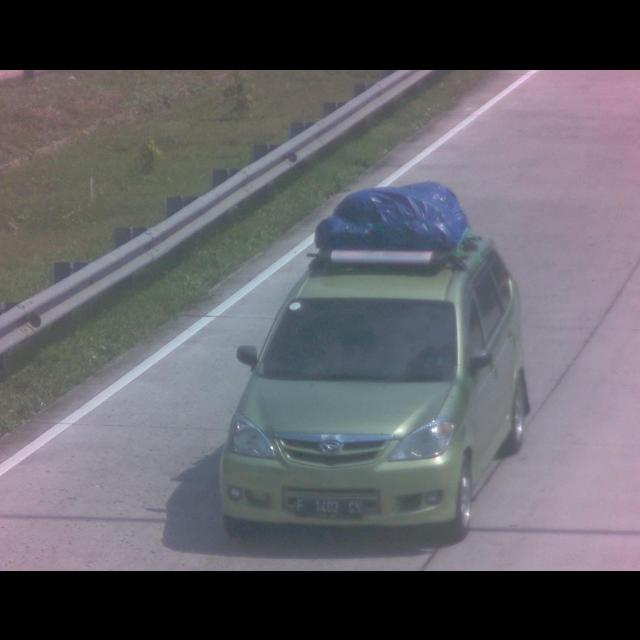plate: (294, 492, 363, 523)
